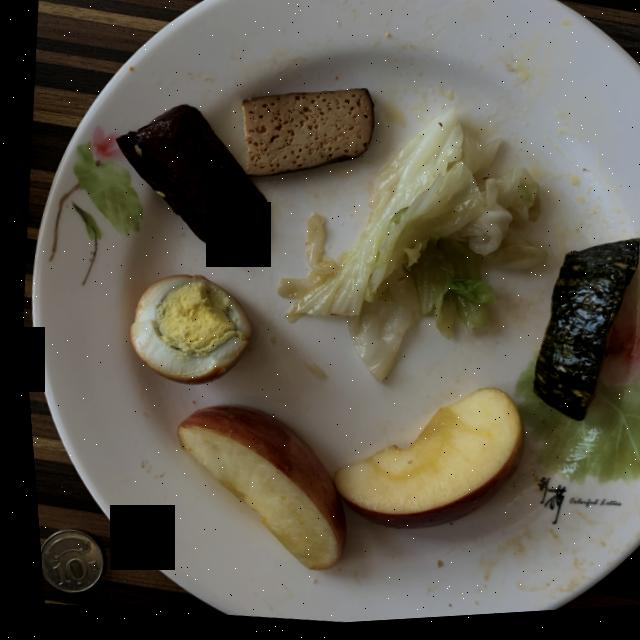apple -sliced-: (170, 394, 515, 573)
cabbage: (273, 115, 540, 385)
coin: (32, 529, 94, 592)
firm tofu: (113, 92, 371, 254)
pumpkin: (526, 246, 635, 427)
soy egg: (123, 276, 244, 386)
